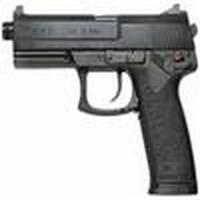gun: (5, 4, 198, 153)
